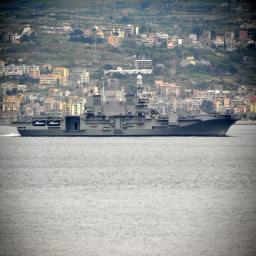Portanaves: (10, 73, 244, 139)
